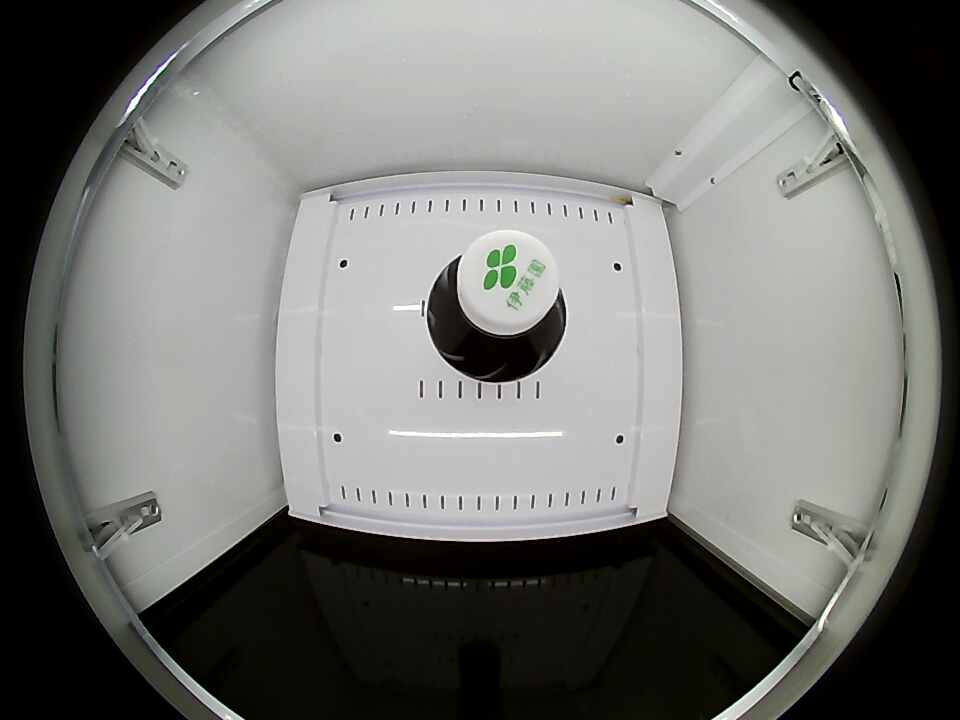damaicha: (426, 230, 567, 380)
